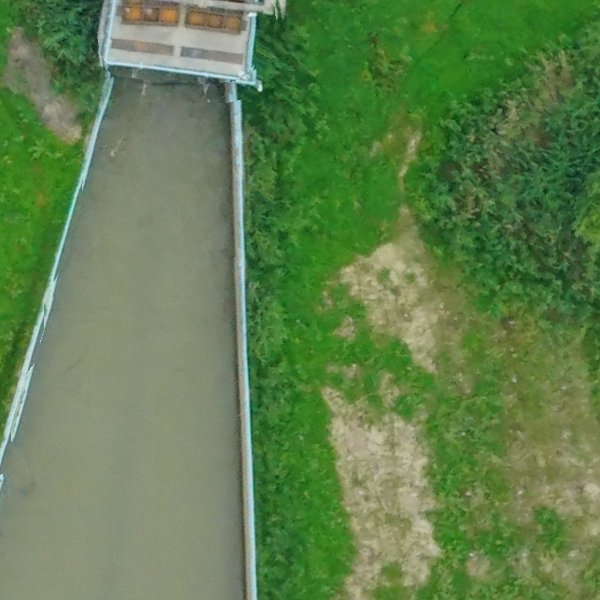Type1: (48, 2, 285, 231)
